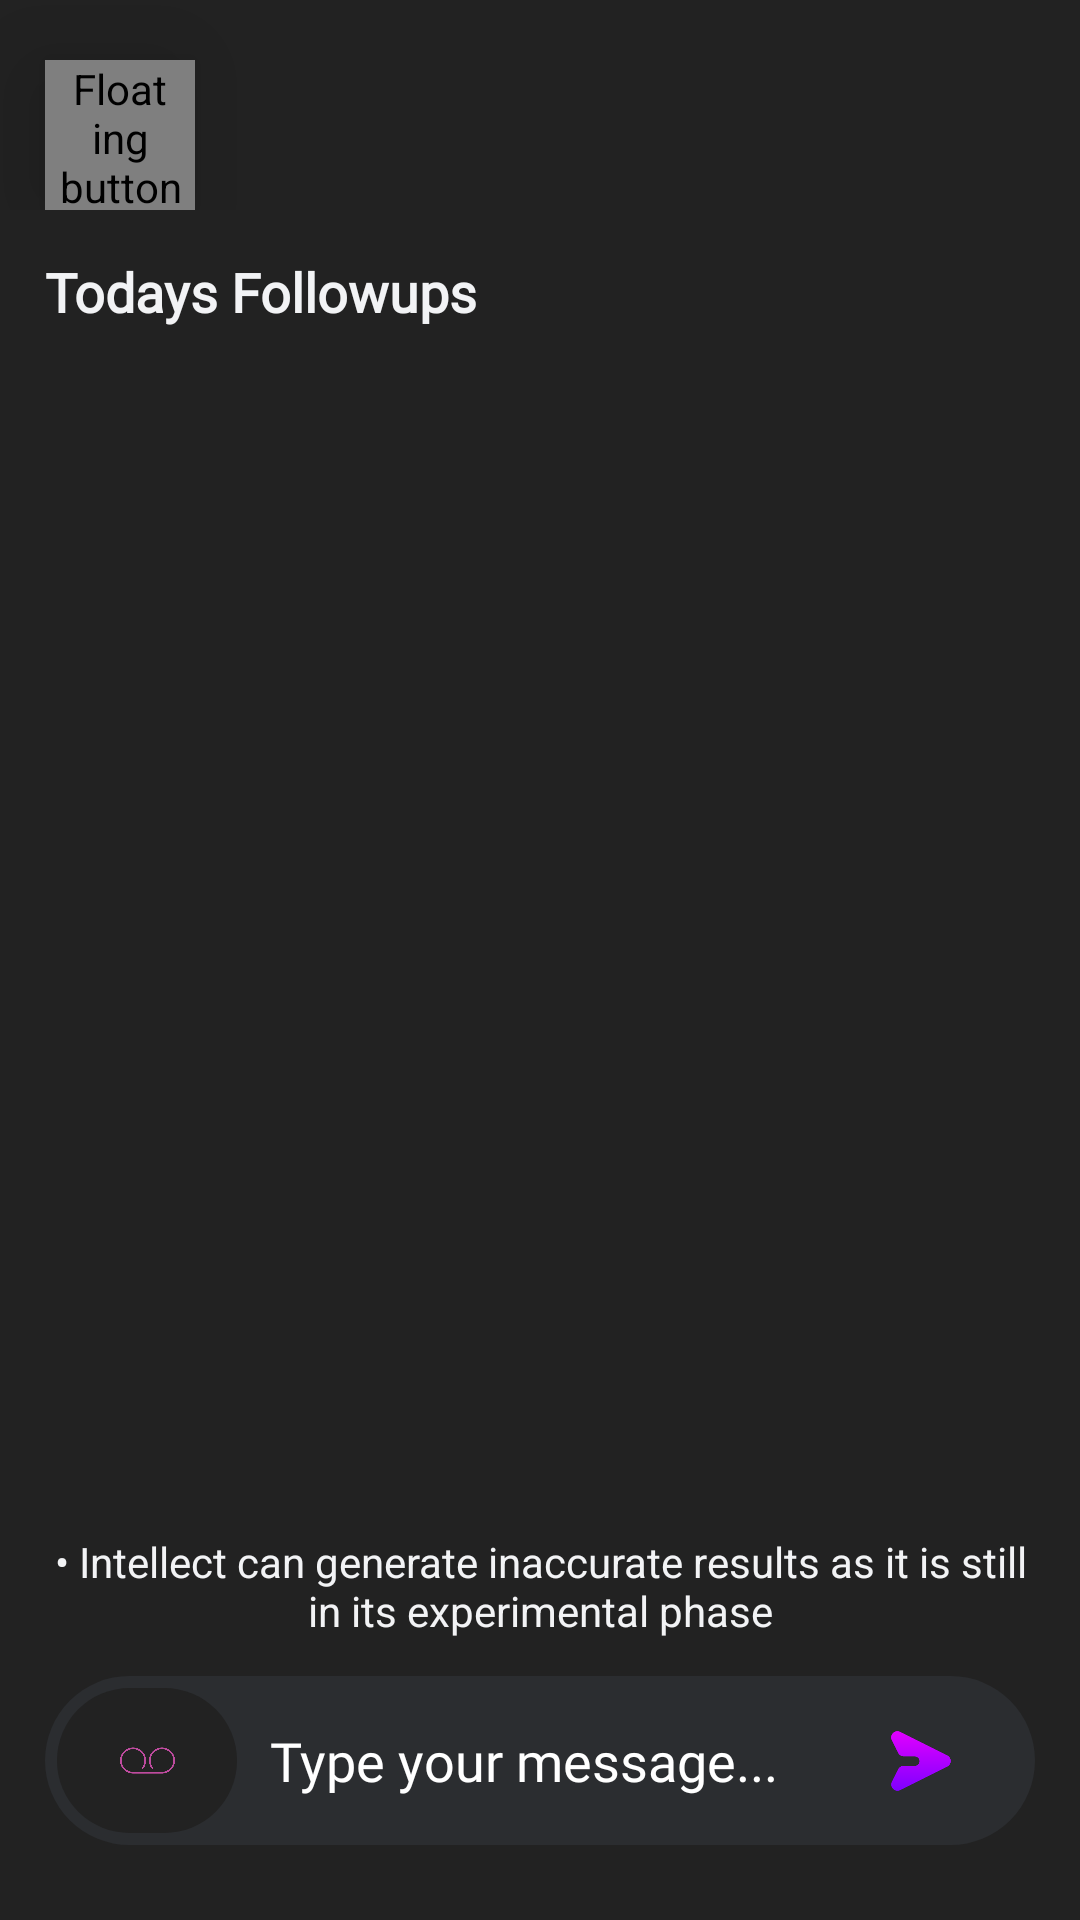

Icon bounding boxes for this 1080x1920 phone screenshot, format {"x1": x1, "y1": y1, "x2": x2, "y2": y2}:
Send message: {"x1": 891, "y1": 1731, "x2": 951, "y2": 1791}
